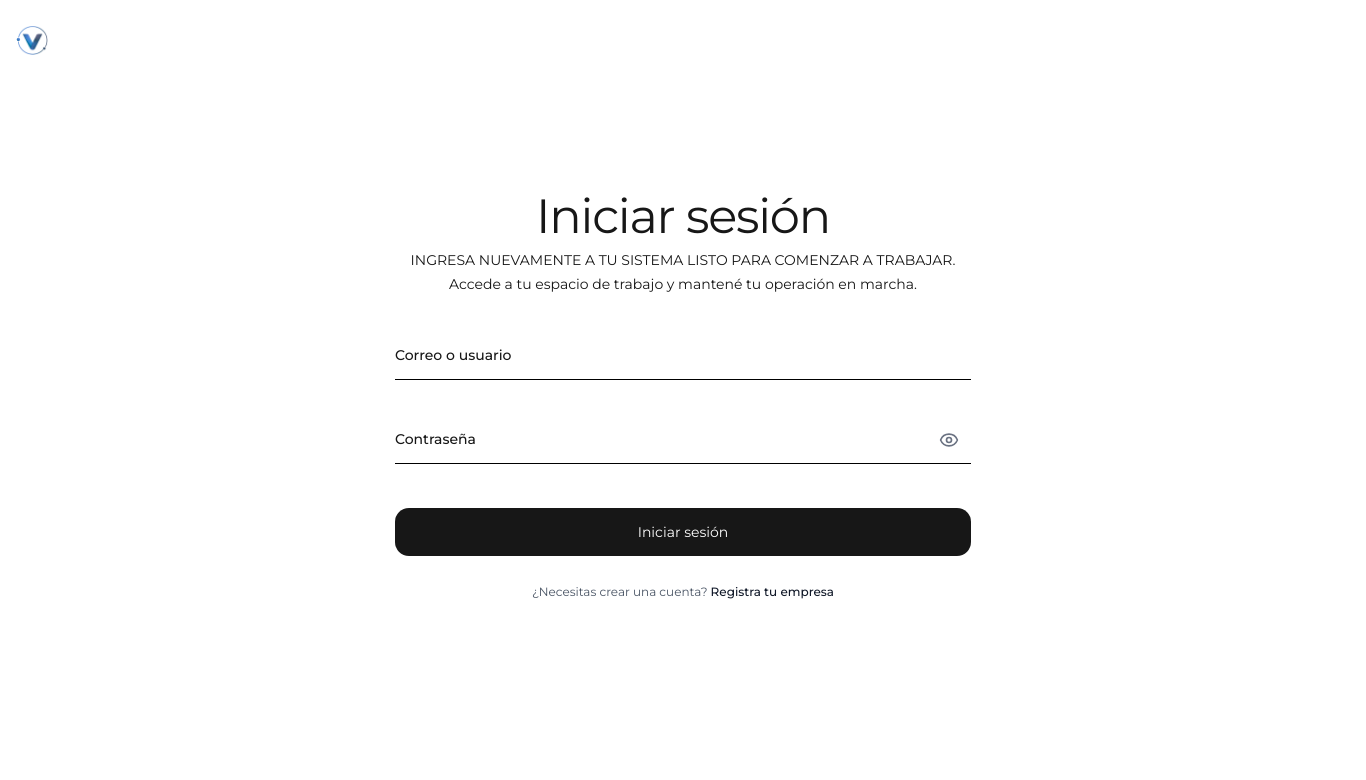
Test: App auth flow › redirects the login flow to the blocked-company route when the active company is unavailable
In the field labelled "Correo o usuario": (683, 356) [395,332,971,380], type "owner@vimcore.test"
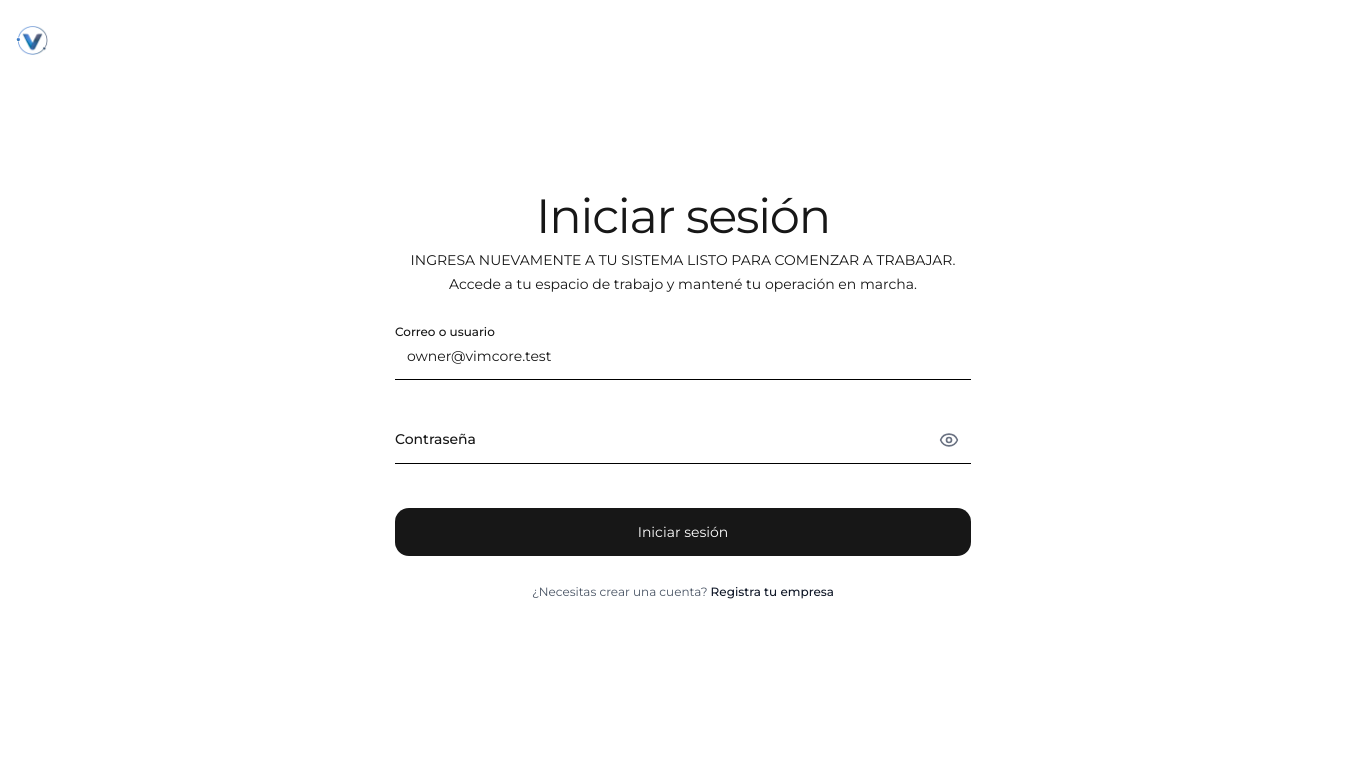
In the password field labelled "Contraseña": (683, 440) [395,416,971,464], type "secret123"
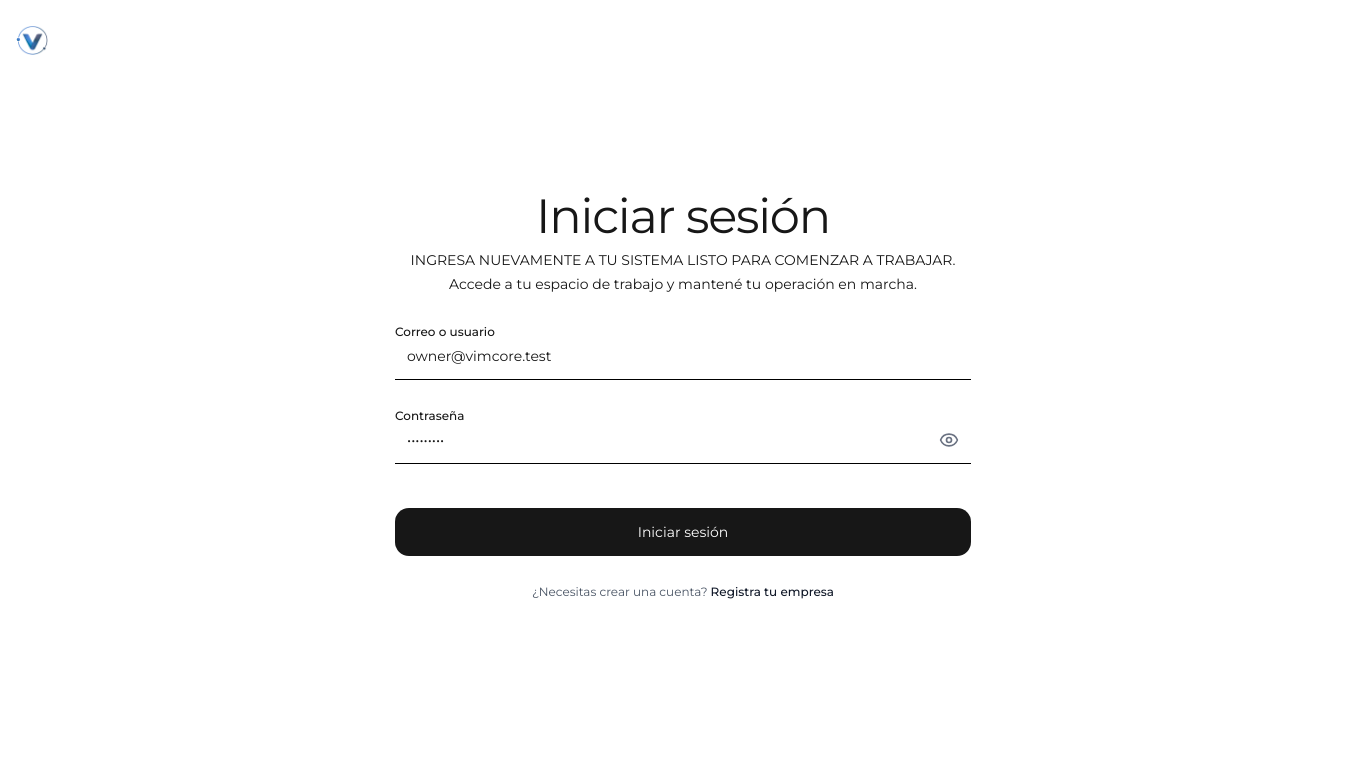
Click the button "Iniciar sesión": click(683, 532) [395,508,971,556]
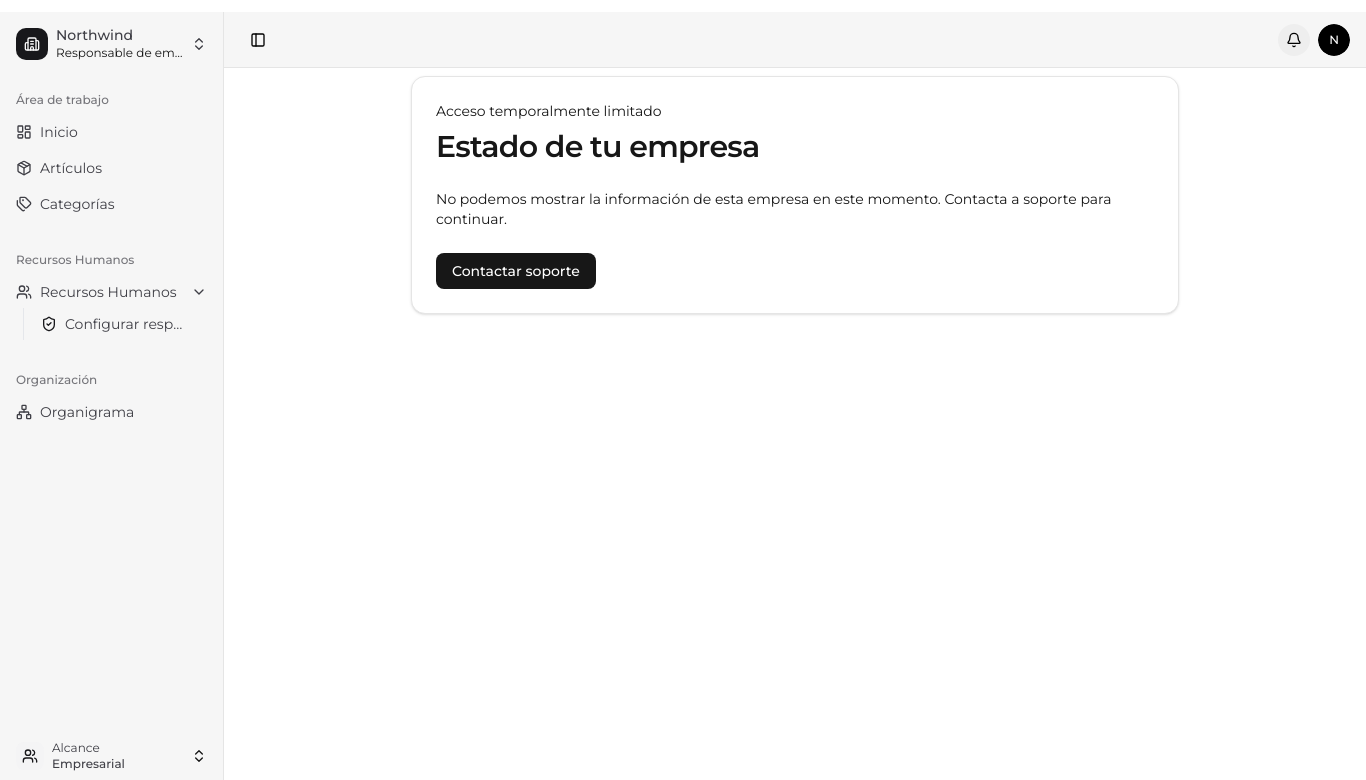
Expected: the heading "Estado de tu empresa" is shown, [436,128,760,165]
Expected: the text "No podemos mostrar la información de esta empresa en este momento. Contacta a soporte para continuar." is shown, [436,190,1111,228]
